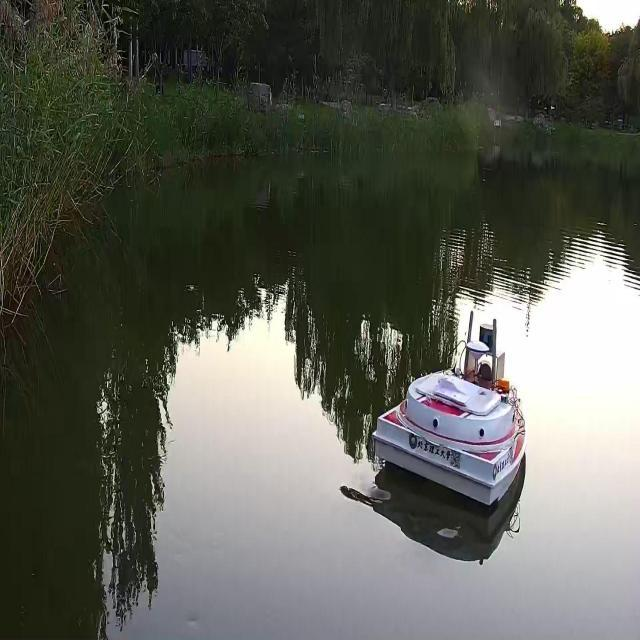CIV_Ship: (372, 312, 526, 526)
